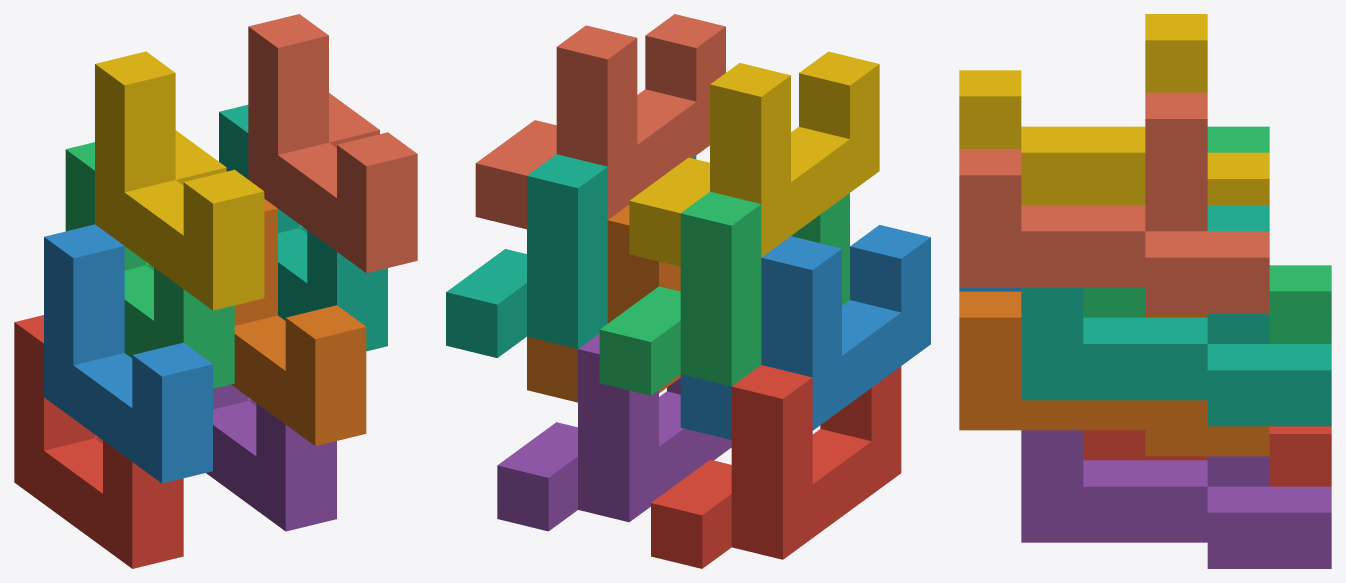
Rendered from tiling.obj.
3 renders of one model, left to right at view 1: azimuth 30°, elevation 25°; view 2: azimuth 150°, elevation 25°; view 3: azimuth 270°, elevation 25°, orthographic. The views are drawn at different scales.
Visible parts, largest first — view 1: copy_1_domain_4, copy_1_domain_8, copy_1_domain_2, copy_1_domain_1, copy_1_domain_6, copy_1_domain_5, copy_1_domain_3, copy_1_domain_7; view 2: copy_1_domain_1, copy_1_domain_4, copy_1_domain_8, copy_1_domain_2, copy_1_domain_3, copy_1_domain_5, copy_1_domain_7, copy_1_domain_6; view 3: copy_1_domain_8, copy_1_domain_7, copy_1_domain_5, copy_1_domain_4, copy_1_domain_6, copy_1_domain_3, copy_1_domain_1.
Boxes of the visible parts, x1,y1,x2,y2 form: copy_1_domain_4: (95,51,264,310); copy_1_domain_8: (248,14,417,273); copy_1_domain_2: (44,224,212,483); copy_1_domain_1: (14,315,183,568); copy_1_domain_6: (231,199,366,445); copy_1_domain_5: (206,384,336,531); copy_1_domain_3: (65,142,234,388); copy_1_domain_7: (219,105,387,351); copy_1_domain_1: (651,365,901,568); copy_1_domain_4: (629,51,879,266); copy_1_domain_8: (475,14,725,229); copy_1_domain_2: (680,225,930,439); copy_1_domain_3: (599,191,849,395); copy_1_domain_5: (497,333,731,531); copy_1_domain_7: (446,154,696,357); copy_1_domain_6: (527,205,680,402); copy_1_domain_8: (959,92,1269,313); copy_1_domain_7: (1021,205,1331,426); copy_1_domain_5: (1021,430,1331,568); copy_1_domain_4: (959,14,1269,205); copy_1_domain_6: (959,291,1269,456); copy_1_domain_3: (1083,126,1331,343); copy_1_domain_1: (1083,426,1331,486).
Bounding box in the file's own units: 6 × 8 × 6.
